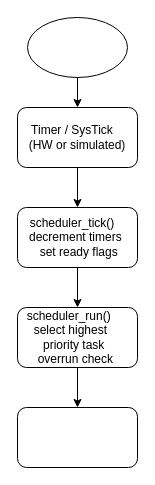
Some shapes in this 155 by 485 pixel diagram are drawn without their labels. The shapes that lost their labels are listed below. From the top down, each one's centre as x and y in pixels, then its label:
At point (77, 47): "Start".
At point (77, 437): "Task Execution (cooperative)".
